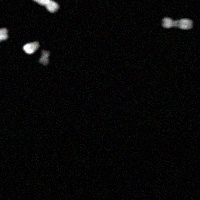chromosome: (162, 15, 192, 30), (23, 0, 58, 12), (22, 39, 39, 54), (38, 49, 52, 65), (0, 26, 7, 49)
